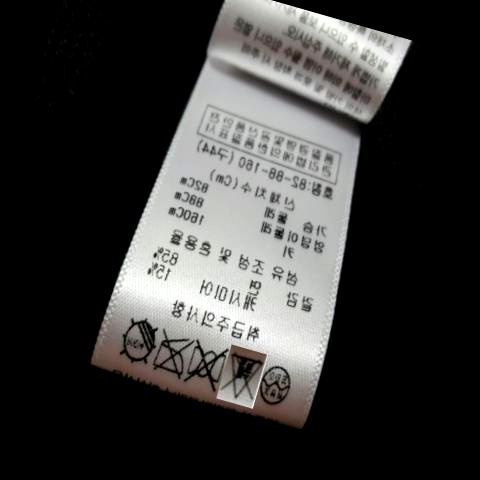DN_iron: (152, 332, 188, 378)
DN_wring: (187, 340, 223, 388)
dry_clean_petrol_only: (260, 357, 293, 408)
dry_flat_in_shade: (119, 313, 160, 368)
non_chlorine_bleach: (226, 349, 260, 400)
